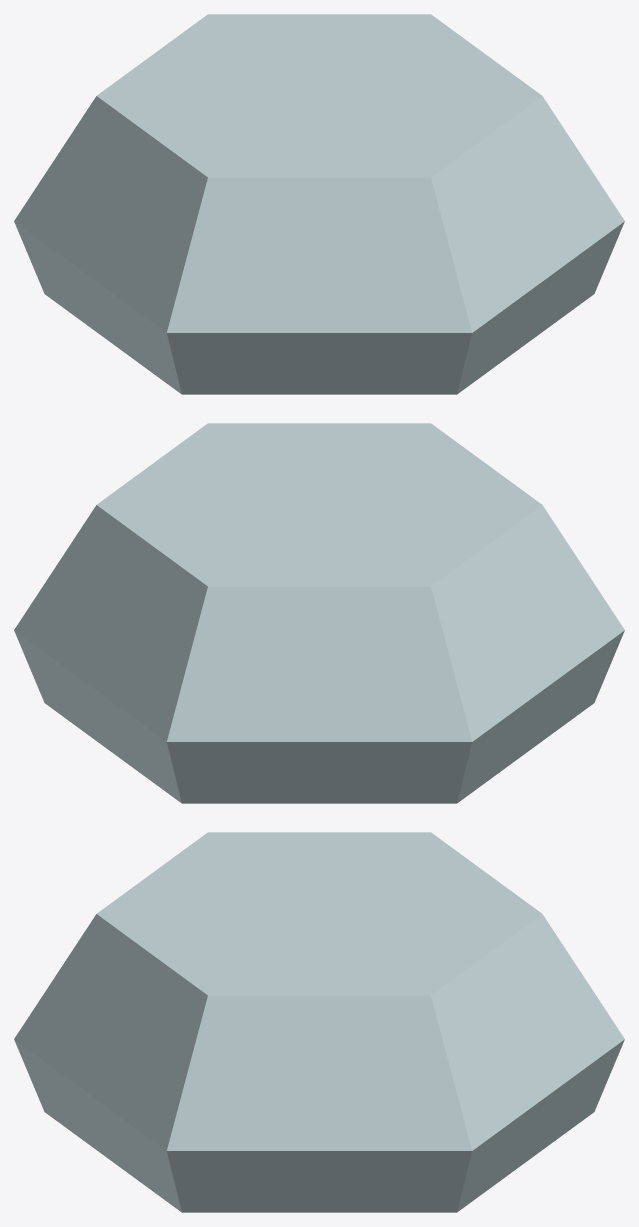
Rendered from stone_smallg.glb.
3 views of the same model, one above another, from view 1: azimuth 30°, elevation 25°; view 2: azimuth 150°, elevation 25°; view 3: azimuth 270°, elevation 25° (orthographic).
Parts seen in each view (by area): view 1: stone_smallG; view 2: stone_smallG; view 3: stone_smallG.
Boxes of the visible parts, x1=… form: stone_smallG: x1=14, y1=14, x2=624, y2=394; stone_smallG: x1=14, y1=423, x2=624, y2=803; stone_smallG: x1=14, y1=832, x2=624, y2=1212.
Bounding box in the file's own units: 0.5937 × 0.2453 × 0.6855.
